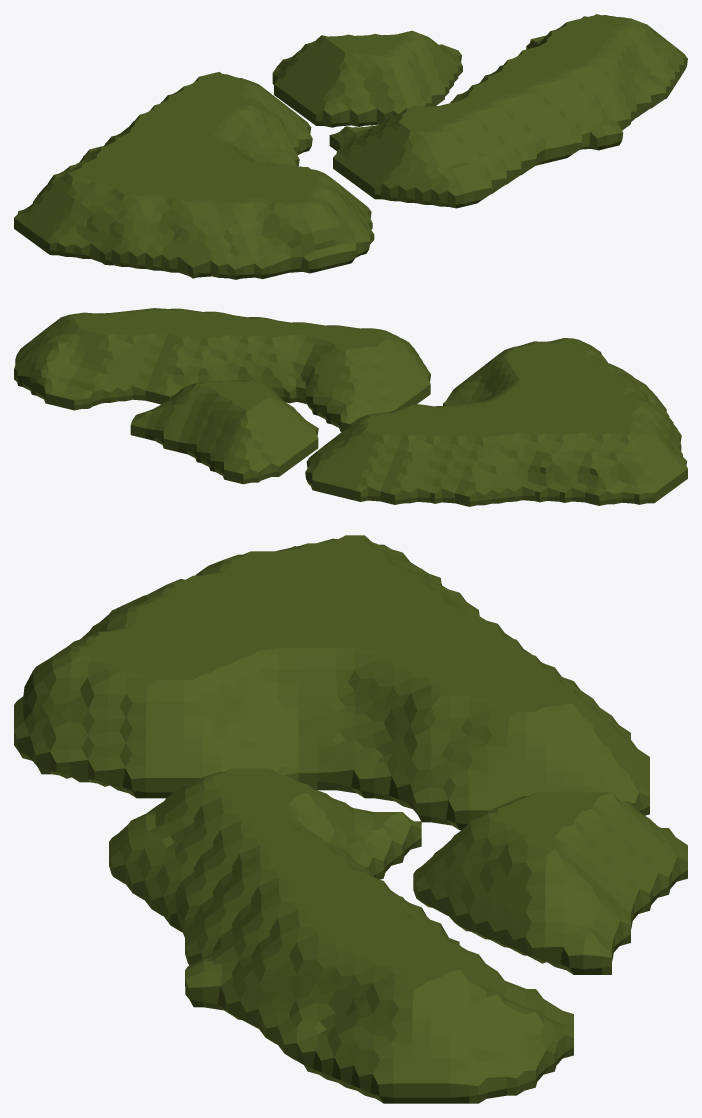
Rendered from Terreno ilha de ximba - low poly.fbx.
3 renders of one model, top to bottom at view 1: azimuth 30°, elevation 25°; view 2: azimuth 150°, elevation 25°; view 3: azimuth 270°, elevation 25°, orthographic. The views are drawn at different scales.
Parts seen in each view (by area): view 1: IlhaDeXimba-1, IlhaDeXimba-3, IlhaDeXimba-2; view 2: IlhaDeXimba-1, IlhaDeXimba-3, IlhaDeXimba-2; view 3: IlhaDeXimba-1, IlhaDeXimba-3, IlhaDeXimba-2.
Part boxes in pixels (<box>): IlhaDeXimba-1: <box>14,72,374,279</box>; IlhaDeXimba-3: <box>329,14,687,208</box>; IlhaDeXimba-2: <box>272,30,462,127</box>; IlhaDeXimba-1: <box>305,338,687,506</box>; IlhaDeXimba-3: <box>14,308,430,431</box>; IlhaDeXimba-2: <box>130,380,318,484</box>; IlhaDeXimba-1: <box>14,535,649,830</box>; IlhaDeXimba-3: <box>109,768,573,1103</box>; IlhaDeXimba-2: <box>413,792,687,974</box>.
Bounding box in the file's own units: 643 × 354 × 50.
